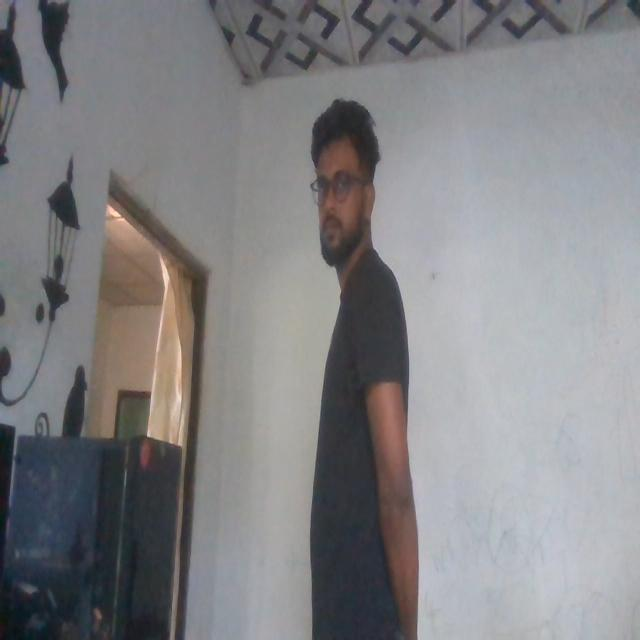Person: (286, 87, 442, 640)
